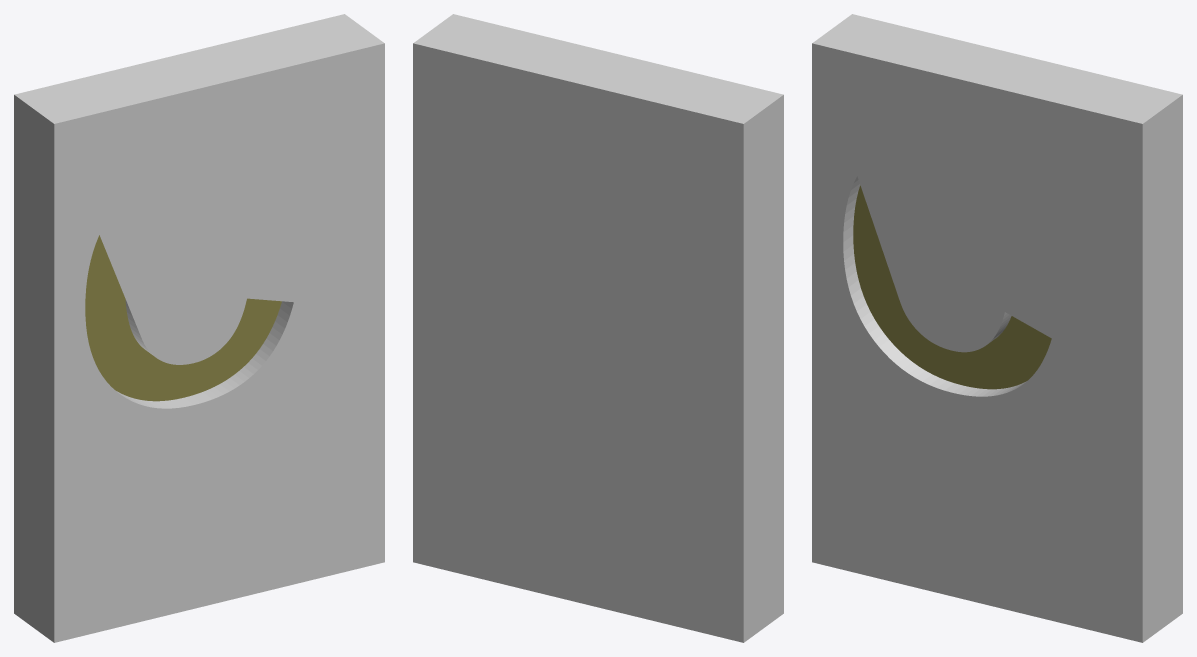
Rendered from plitkaC.fbx.
3 renders of one model, left to right at view 1: azimuth 30°, elevation 25°; view 2: azimuth 150°, elevation 25°; view 3: azimuth 330°, elevation 25°, orthographic.
Parts seen in each view (by area): view 1: Cube.041; view 2: Cube.041; view 3: Cube.041.
Boxes of the visible parts, box(x1,y1,x2,y2) form: Cube.041: box(14, 14, 384, 642); Cube.041: box(413, 14, 783, 642); Cube.041: box(812, 14, 1182, 642).
Size of the model in its own units: 23.8 by 35.7 by 5.
